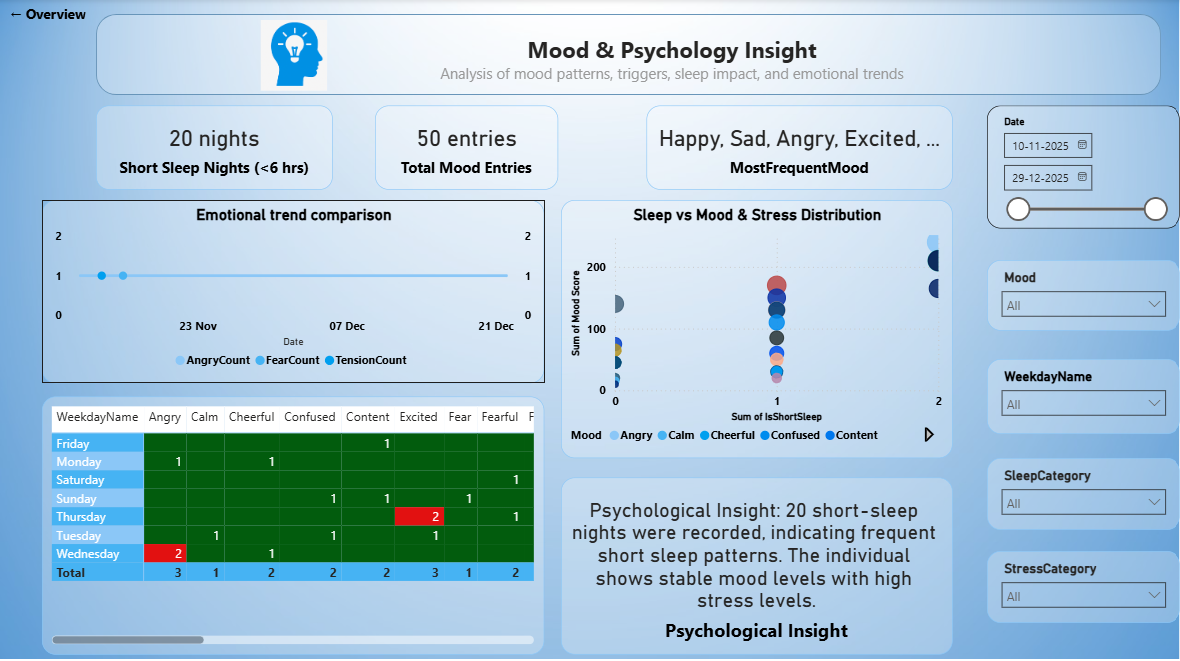

The dashboard page shown, as its layout file describes it:
{"tool":"powerbi","page":{"name":"Mood & Psychology Insight","canvas":[1280,720],"ordinal":2},"visuals":[{"type":"card","fields":{"Values":["Appointments.MostFrequentMoodWithUnits"]},"box":[701,115.5,331.8,91.1],"z":0},{"type":"pivotTable","fields":{"Columns":["Mood_Stress_Log.Mood"],"Values":["Mood_Stress_Log.MoodCount"],"Rows":["Mood_Stress_Log.WeekdayName"]},"box":[45.5,431,544.9,279.8],"z":1000},{"type":"scatterChart","title":"Sleep vs Mood & Stress Distribution","fields":{"Y":["Sum(Mood_Stress_Log.Mood Score)"],"Size":["Sum(Mood_Stress_Log.Stress Level)"],"Series":["Mood_Stress_Log.Mood"],"X":["Sum(Health_Metrics (2).IsShortSleep)"]},"box":[608.3,218,424.5,279.8],"z":2000},{"type":"lineChart","title":"Emotional trend comparison ","fields":{"Category":["Mood_Stress_Log.Date"],"Y":["Mood_Stress_Log.AngryCount","Mood_Stress_Log.FearCount"],"Y2":["Mood_Stress_Log.TensionCount"]},"box":[45.5,218,544.9,198.4],"z":3000},{"type":"card","fields":{"Values":["Mood_Stress_Log.MoodCountWithUnits"]},"box":[406.6,115.5,198.4,91.1],"z":4000},{"type":"card","fields":{"Values":["Health_Metrics (2).ShortSleepNights"]},"box":[104.1,115.5,257,91.1],"z":5000},{"type":"slicer","fields":{"Values":["Mood_Stress_Log.Date"]},"box":[1070.3,115.5,209.8,133.4],"z":6000},{"type":"slicer","fields":{"Values":["Mood_Stress_Log.Mood"]},"box":[1070.3,283,209.8,76.4],"z":7000},{"type":"slicer","fields":{"Values":["Mood_Stress_Log.WeekdayName"]},"box":[1070.3,390.4,209.8,81.3],"z":8000},{"type":"shape","box":[104.1,16.3,1154.8,87.8],"z":9000},{"type":"image","box":[281.4,22.8,74.8,76.4],"z":10000},{"type":"slicer","fields":{"Values":["Health_Metrics (2).SleepCategory"]},"box":[1070.3,497.7,209.8,78.1],"z":11000},{"type":"slicer","fields":{"Values":["Mood_Stress_Log.StressCategory"]},"box":[1070.3,598.6,209.8,78.1],"z":12000},{"type":"card","fields":{"Values":["Mood_Stress_Log.Psychological_Insight"]},"box":[608.3,518.9,424.5,191.9],"z":13000},{"type":"actionButton","box":[0,0,104.1,32.5],"z":14000},{"type":"textbox","box":[361.1,32.5,735.2,65.1],"z":15000}]}

Visuals, with their boxes on the page's 1280x720 design canvas (x1, y1, x2, y2). These are canvas units, not pixel positions in the 1180x661 screenshot, which may show the page scaled, cropped or inside an application window:
card - Appointments.MostFrequentMoodWithUnits: 701 116 1033 207
pivotTable - Mood_Stress_Log.Mood x Mood_Stress_Log.MoodCount: 46 431 590 711
"Sleep vs Mood & Stress Distribution" scatterChart: 608 218 1033 498
"Emotional trend comparison " lineChart: 46 218 590 416
card - Mood_Stress_Log.MoodCountWithUnits: 407 116 605 207
card - Health_Metrics (2).ShortSleepNights: 104 116 361 207
slicer - Mood_Stress_Log.Date: 1070 116 1280 249
slicer - Mood_Stress_Log.Mood: 1070 283 1280 359
slicer - Mood_Stress_Log.WeekdayName: 1070 390 1280 472
shape: 104 16 1259 104
image: 281 23 356 99
slicer - Health_Metrics (2).SleepCategory: 1070 498 1280 576
slicer - Mood_Stress_Log.StressCategory: 1070 599 1280 677
card - Mood_Stress_Log.Psychological_Insight: 608 519 1033 711
actionButton: 0 0 104 32
textbox: 361 32 1096 98
